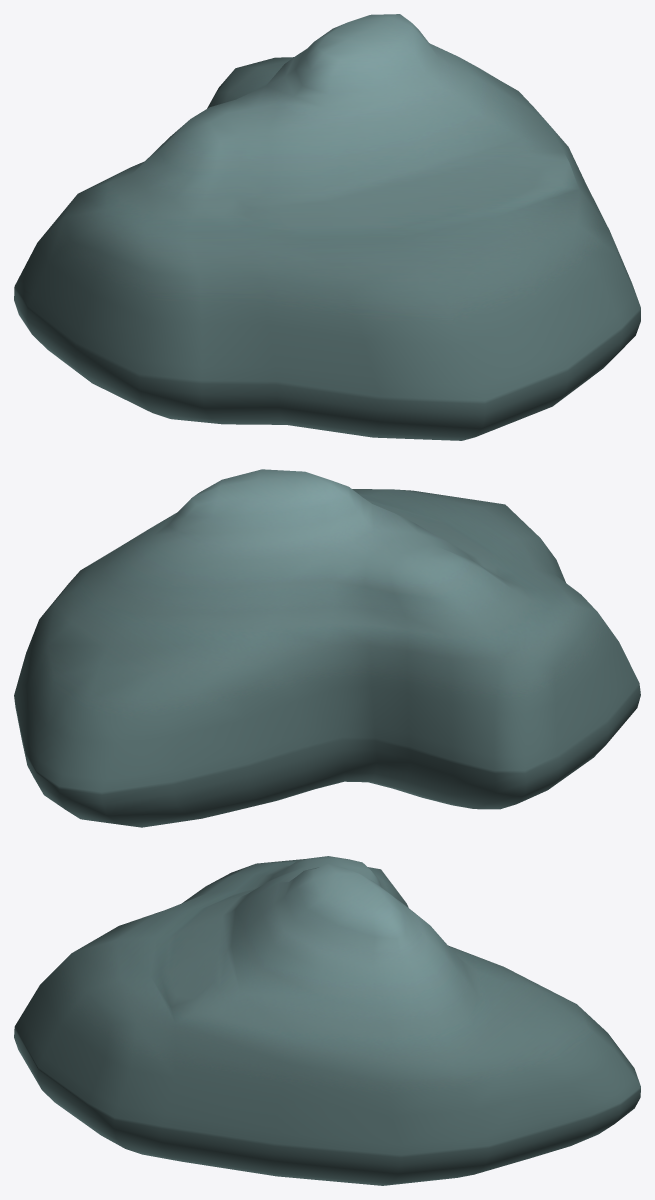
The model's file is ROCK04.fbx.
3 renders of one model, top to bottom at view 1: azimuth 30°, elevation 25°; view 2: azimuth 150°, elevation 25°; view 3: azimuth 270°, elevation 25°, orthographic. The views are drawn at different scales.
Parts seen in each view (by area): view 1: ROCK04; view 2: ROCK04; view 3: ROCK04.
Boxes of the visible parts, x1,y1,x2,y2 form: ROCK04: [14, 14, 640, 440]; ROCK04: [14, 469, 640, 827]; ROCK04: [14, 856, 640, 1185].
Bounding box in the file's own units: 9.22 × 4.74 × 10.95.
